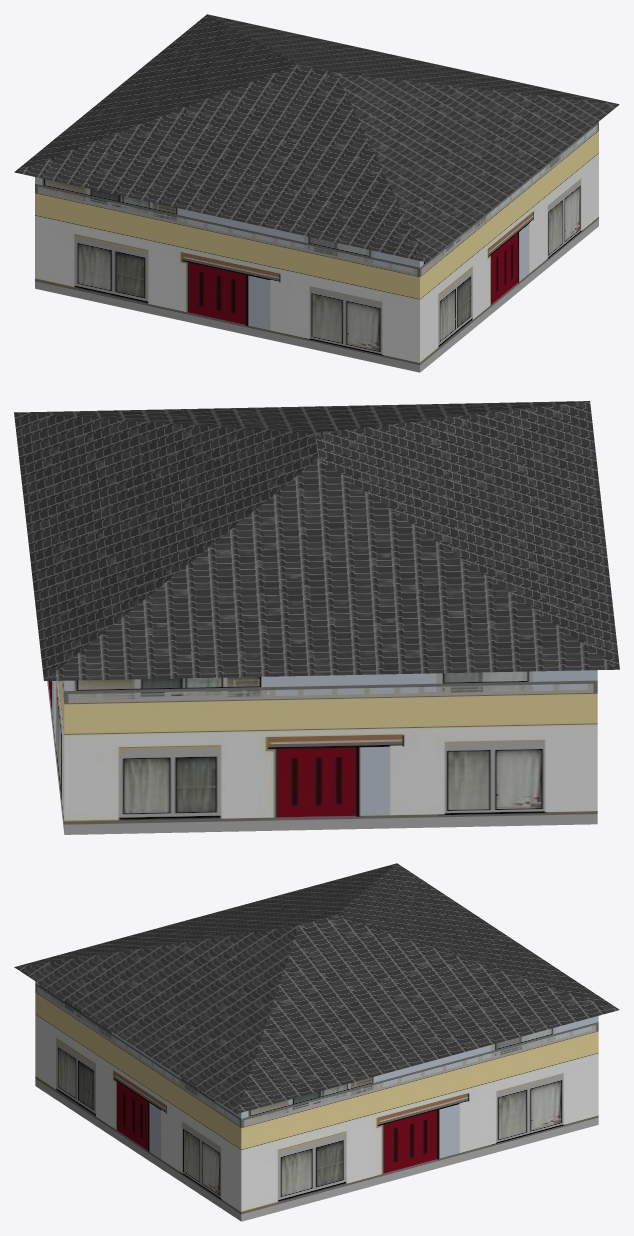
3 views of the same model, one above another, from view 1: azimuth 30°, elevation 25°; view 2: azimuth 150°, elevation 25°; view 3: azimuth 270°, elevation 25° (orthographic). The views are drawn at different scales.
Parts seen in each view (by area): view 1: CityEngineMaterial_16_m, CityEngineMaterial_15_m; view 2: CityEngineMaterial_16_m, CityEngineMaterial_15_m; view 3: CityEngineMaterial_16_m, CityEngineMaterial_15_m.
Boxes of the visible parts, box(x1,y1,x2,y2) form: CityEngineMaterial_16_m: box(14, 14, 619, 262); CityEngineMaterial_15_m: box(35, 122, 598, 372); CityEngineMaterial_16_m: box(14, 401, 619, 680); CityEngineMaterial_15_m: box(47, 670, 597, 834); CityEngineMaterial_16_m: box(14, 863, 619, 1113); CityEngineMaterial_15_m: box(35, 981, 598, 1221).
Size of the model in its own units: 36.27 by 12.47 by 37.06.
